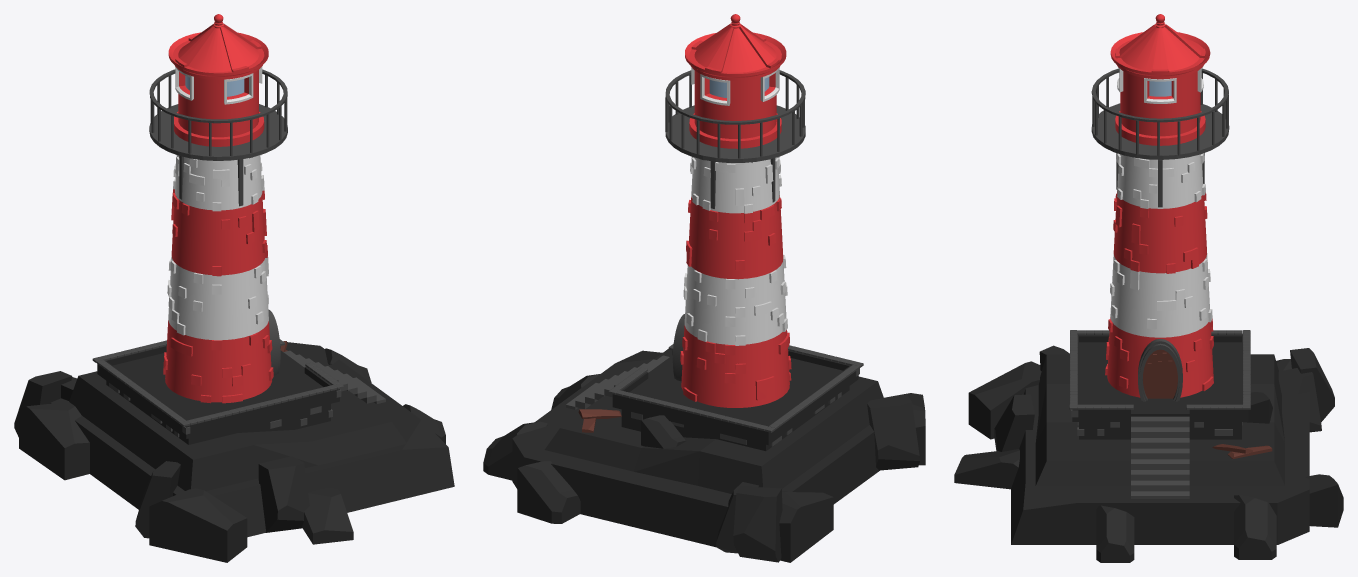
The model's file is lighthouse.dae.
3 views of the same model, side by side, from view 1: azimuth 30°, elevation 25°; view 2: azimuth 150°, elevation 25°; view 3: azimuth 270°, elevation 25° (orthographic). The views are drawn at different scales.
Visible parts, largest first — view 1: rocks, lighthouse, lighthouse2; view 2: rocks, lighthouse, lighthouse2, wood; view 3: rocks, lighthouse, lighthouse2, wood.
Part boxes in pixels (x1=…): rocks: x1=14, y1=342, x2=454, y2=562; lighthouse: x1=163, y1=14, x2=273, y2=403; lighthouse2: x1=92, y1=69, x2=385, y2=437; rocks: x1=483, y1=349, x2=925, y2=562; lighthouse: x1=680, y1=14, x2=791, y2=407; lighthouse2: x1=566, y1=70, x2=863, y2=446; wood: x1=578, y1=409, x2=621, y2=432; rocks: x1=954, y1=334, x2=1343, y2=562; lighthouse: x1=1105, y1=14, x2=1213, y2=397; lighthouse2: x1=1069, y1=68, x2=1250, y2=498; wood: x1=1143, y1=349, x2=1272, y2=458.
Size of the model in its own units: 4.43 by 4.56 by 5.9.
